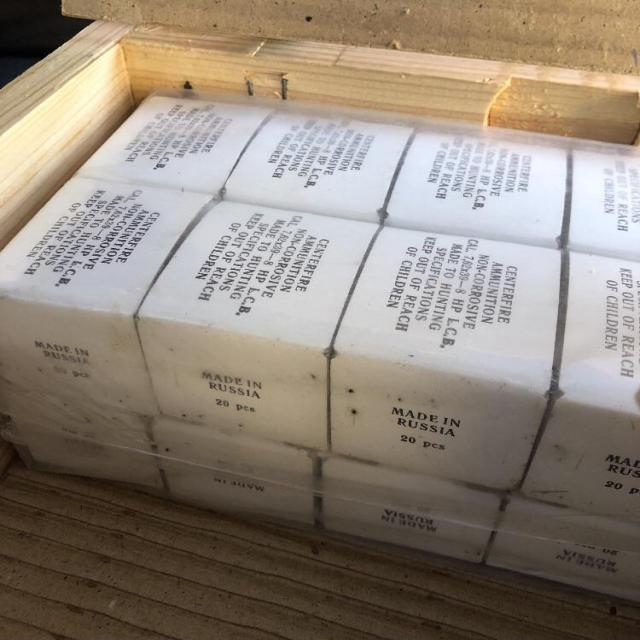Carton: (0, 298, 637, 605), (0, 172, 378, 352), (332, 228, 558, 390), (385, 121, 564, 244), (221, 105, 415, 216), (562, 146, 639, 414), (76, 91, 270, 192)
